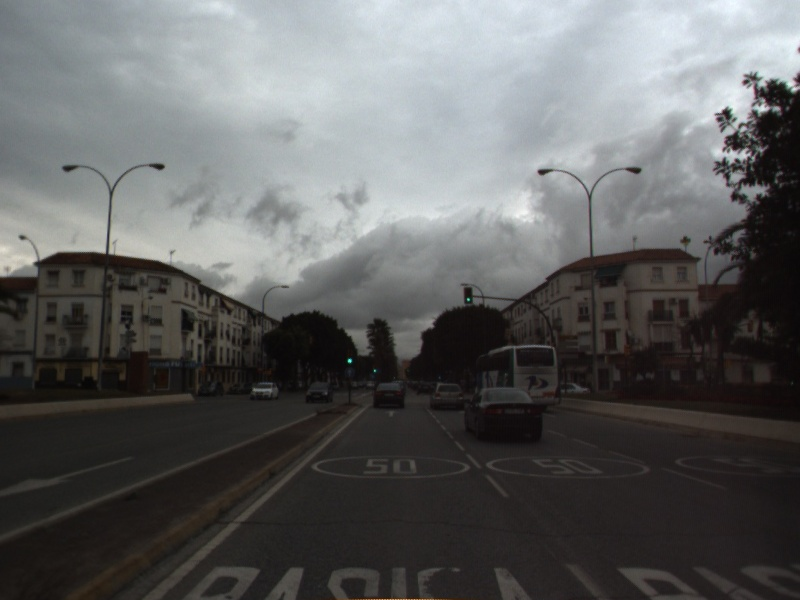STRAIGHT: (383, 408, 401, 419)
